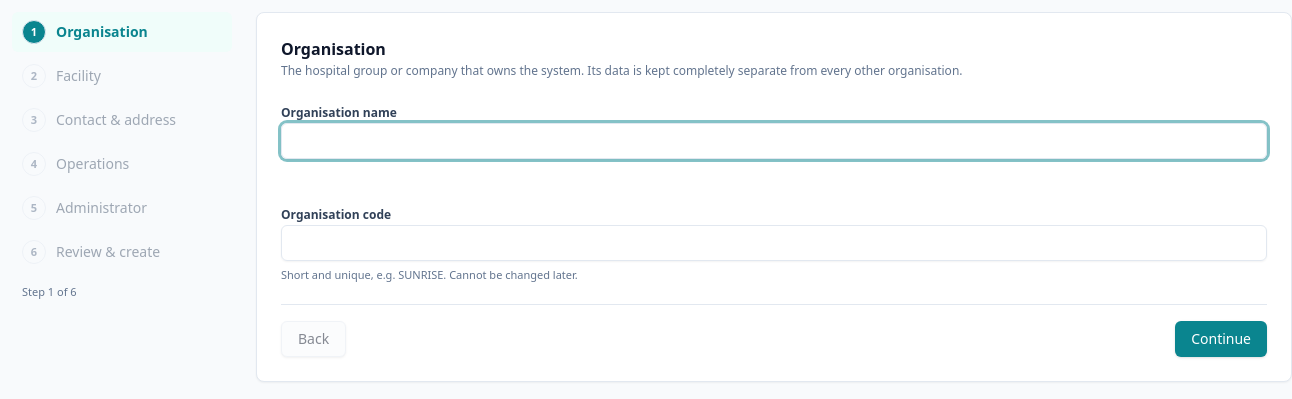
Test: TenantSetupWizard › shows validation errors and does not advance with required fields empty
Check: the field labelled "Organisation name" is shown, box x1=281 y1=123 x2=1267 y2=159
Click the button "Continue" at x=1221, y=338, box x1=1175 y1=320 x2=1267 y2=356
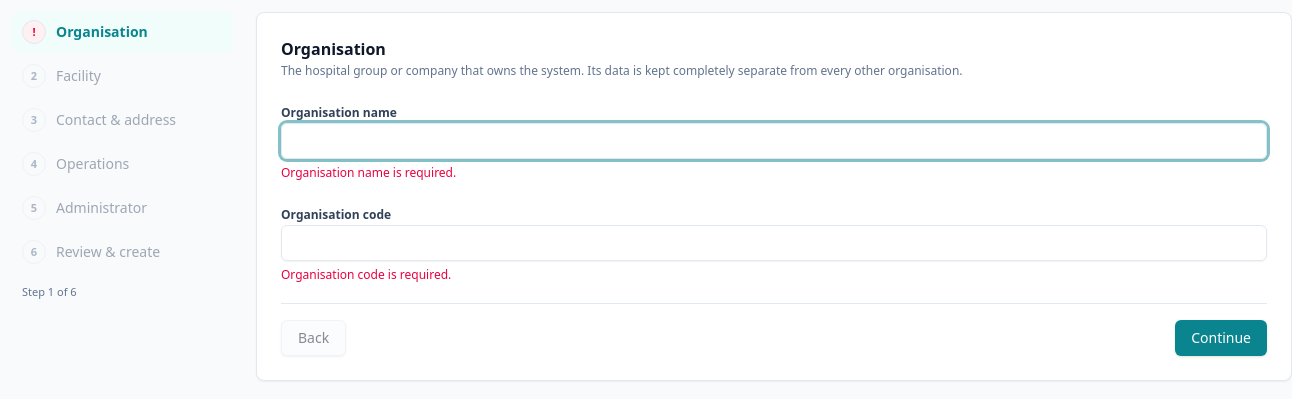
Check: the heading "Organisation" is shown, box x1=281 y1=38 x2=386 y2=60
Check: the text "Organisation name is required." is shown, box x1=281 y1=164 x2=456 y2=181
Check: the text "Organisation code is required." is shown, box x1=281 y1=266 x2=451 y2=283
